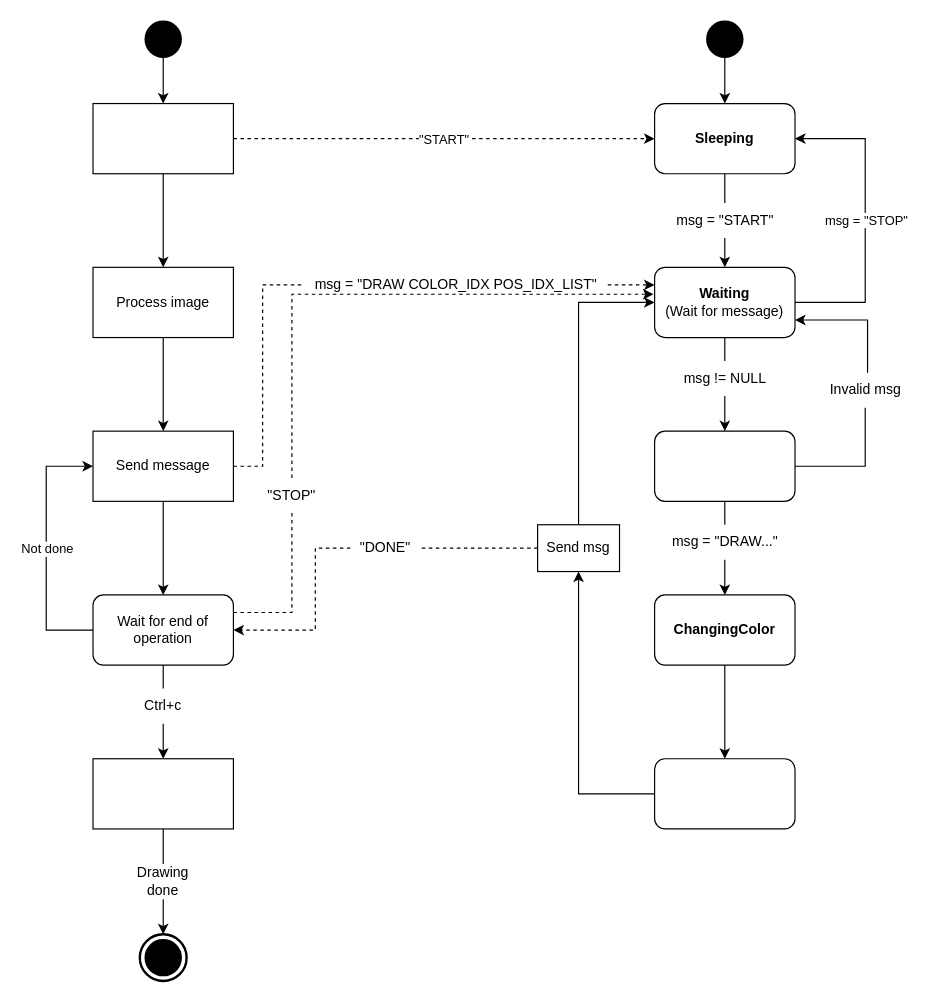
Image size: 931x1002. Some labels were removed from this diagram. The centre of each missing label's shape, as x and y in pixels:
"Drawing" goes at (x=724, y=793).
"Parsing" goes at (x=724, y=465).
"Start OpenCR program" goes at (x=162, y=138).
"Stop OpenCR program" goes at (x=162, y=793).
